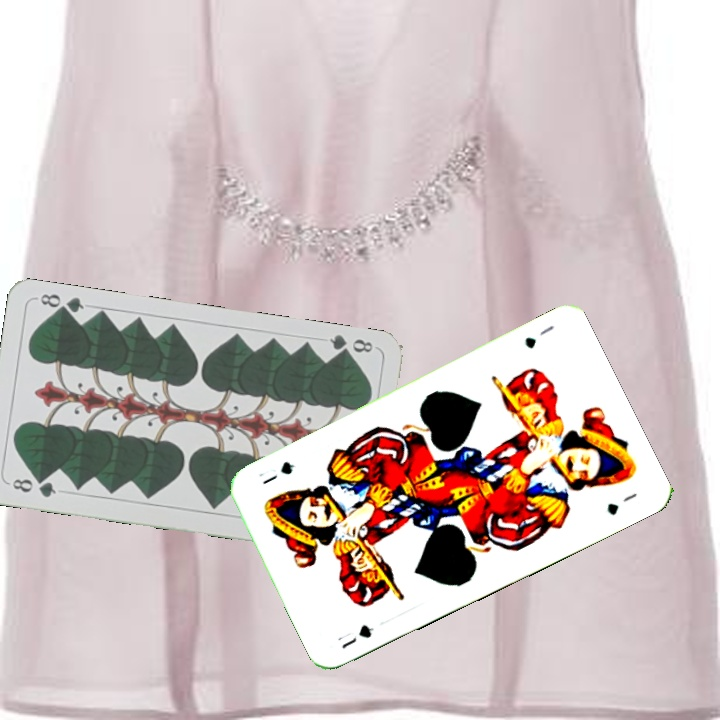G8: (325, 331, 376, 360), (5, 474, 59, 500)
GU: (333, 620, 377, 652), (520, 321, 557, 352)
